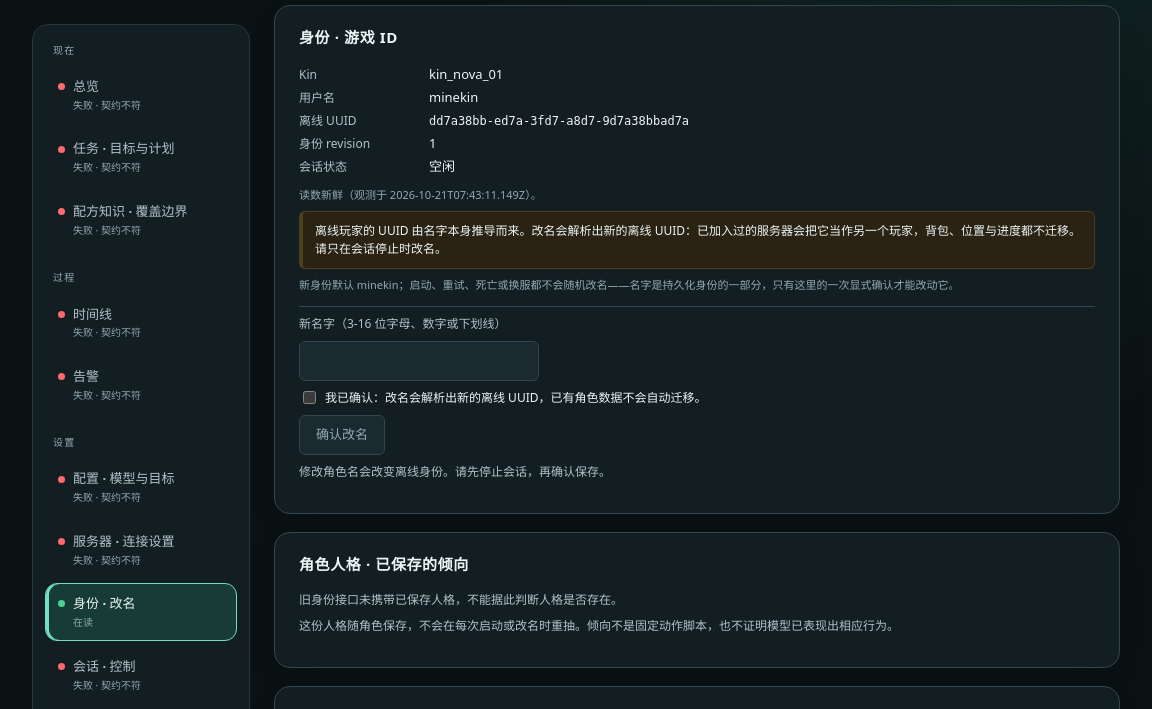
Test case: 身份面板：改名只在会话停止且显式确认时可用 › 服务器具名拒止原样送到面板，且当前身份保持不变
(page scrolled)
Expected: the text "minekin" is shown, [429, 88, 478, 106]
In the field labelled "新名字（3-16 位字母、数字或下划线）": {"x": 419, "y": 361} [299, 341, 539, 381], type "late_kin"
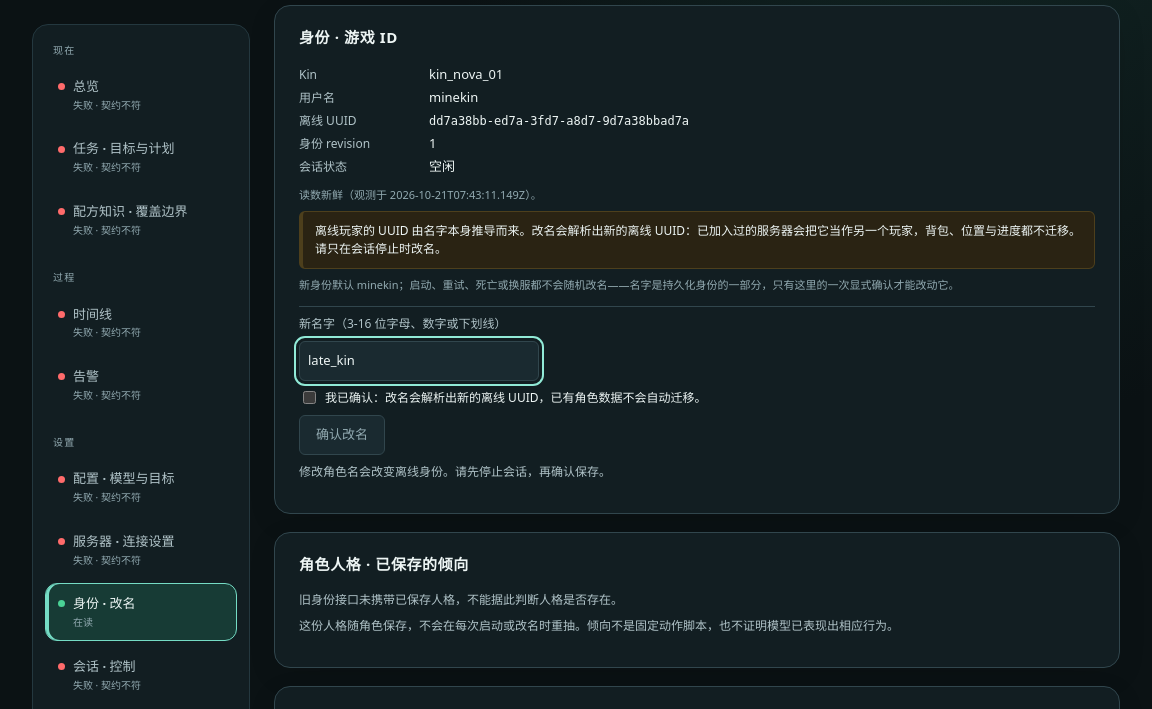
Click the checkbox: {"x": 310, "y": 397} [303, 391, 316, 404]
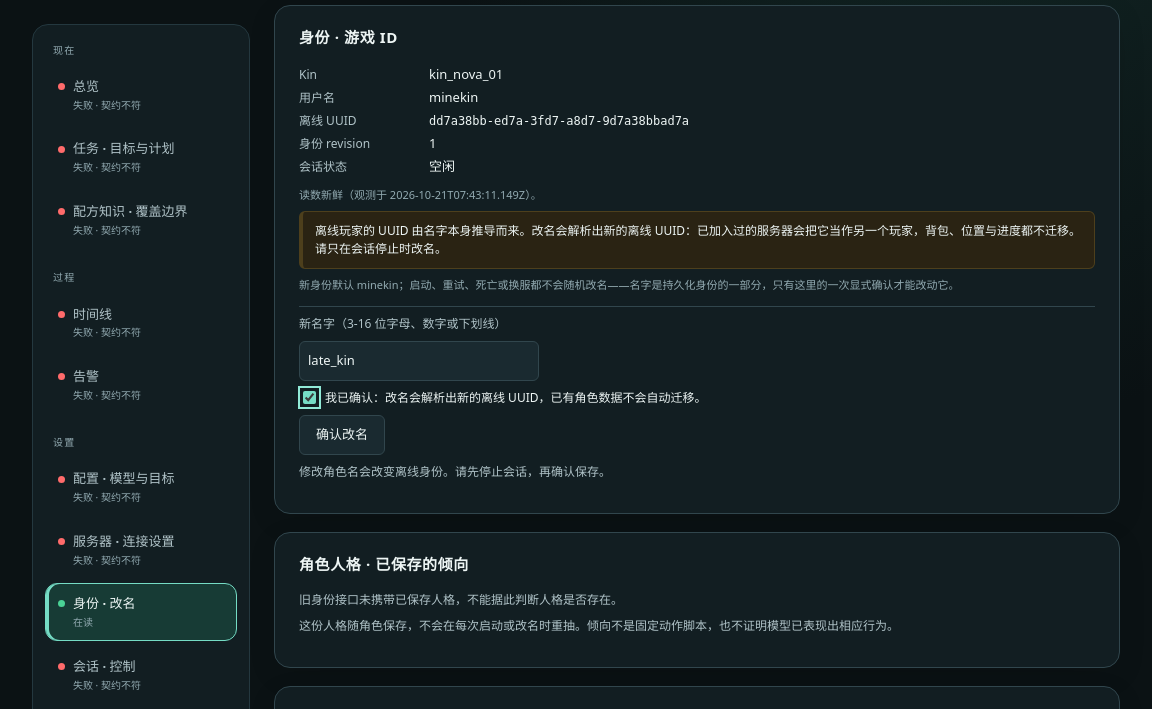
Click the button with test id "identity-submit": {"x": 342, "y": 435} [299, 415, 385, 455]
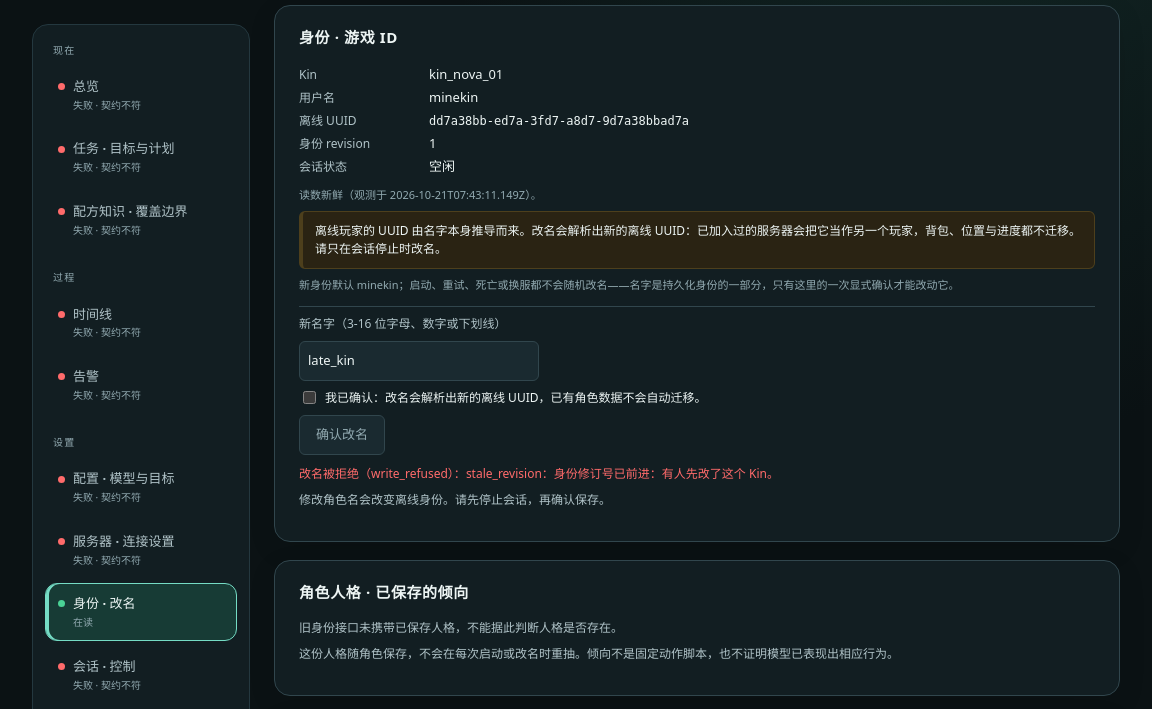
Expected: the text with test id "identity-username" reads "minekin", [429, 88, 478, 106]
Expected: the text with test id "identity-refusal" shows "write_refused", [371, 465, 448, 482]
Expected: the text with test id "identity-refusal" shows "stale_revision", [466, 465, 779, 482]
